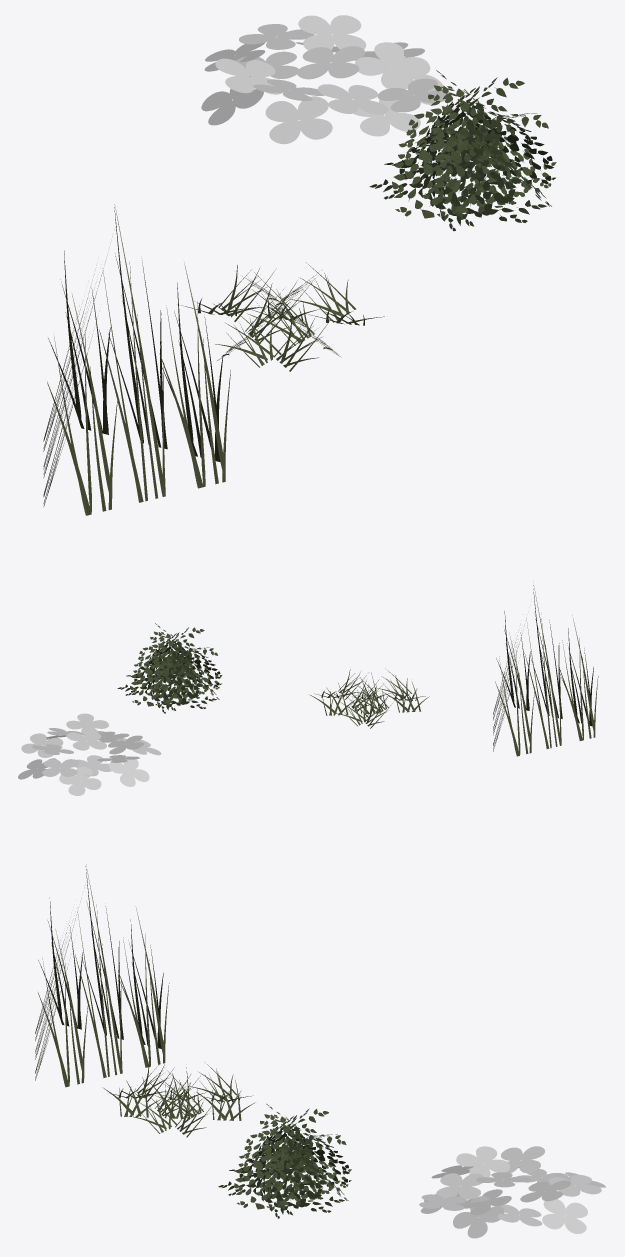
File: Grass.fbx
3 views of the same model, one above another, from view 1: azimuth 30°, elevation 25°; view 2: azimuth 150°, elevation 25°; view 3: azimuth 270°, elevation 25° (orthographic). The views are drawn at different scales.
Parts seen in each view (by area): view 1: shrub1, bush1, grass2, grass1; view 2: shrub1, grass2, bush1, grass1; view 3: shrub1, grass2, bush1, grass1.
Boxes of the visible parts, bbox=[...] form: shrub1: bbox=[201, 15, 449, 144]; bush1: bbox=[369, 70, 556, 231]; grass2: bbox=[43, 204, 230, 515]; grass1: bbox=[179, 262, 384, 371]; shrub1: bbox=[18, 713, 161, 795]; grass2: bbox=[493, 581, 598, 756]; bush1: bbox=[117, 623, 222, 713]; grass1: bbox=[310, 668, 429, 728]; shrub1: bbox=[419, 1146, 605, 1238]; grass2: bbox=[35, 864, 169, 1087]; bush1: bbox=[218, 1103, 351, 1218]; grass1: bbox=[102, 1061, 255, 1137].
Bounding box in the file's own units: 71.24 × 25.99 × 72.32.
